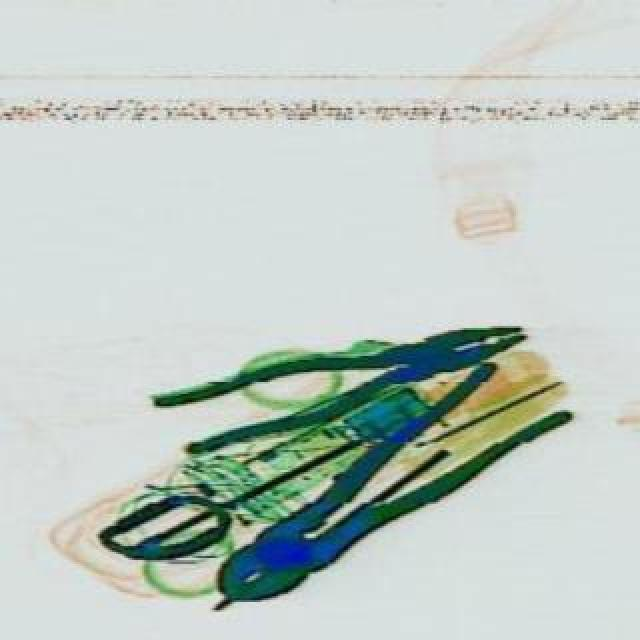wrench: (190, 338, 570, 634), (146, 288, 532, 464)
